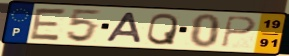0: (187, 13, 223, 49)
5: (65, 7, 105, 43)
A: (104, 11, 143, 44)
E: (27, 7, 69, 42)
P: (220, 15, 258, 49)
Q: (145, 12, 180, 46)
